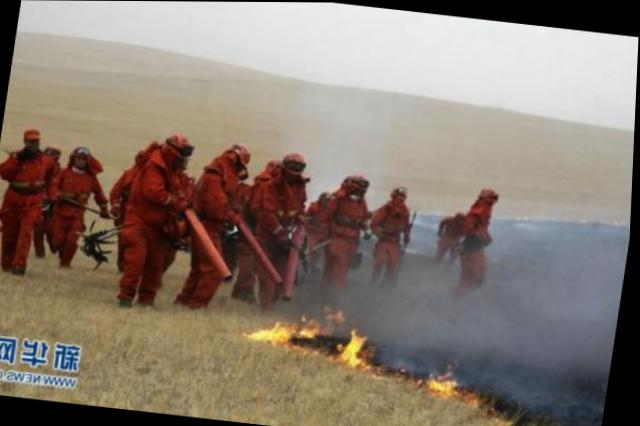fire: (234, 299, 541, 411)
